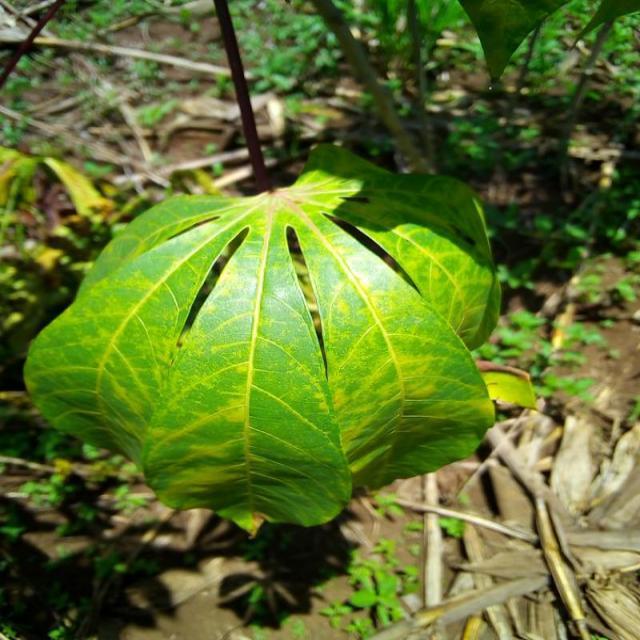cassava leaf: (21, 141, 502, 534)
